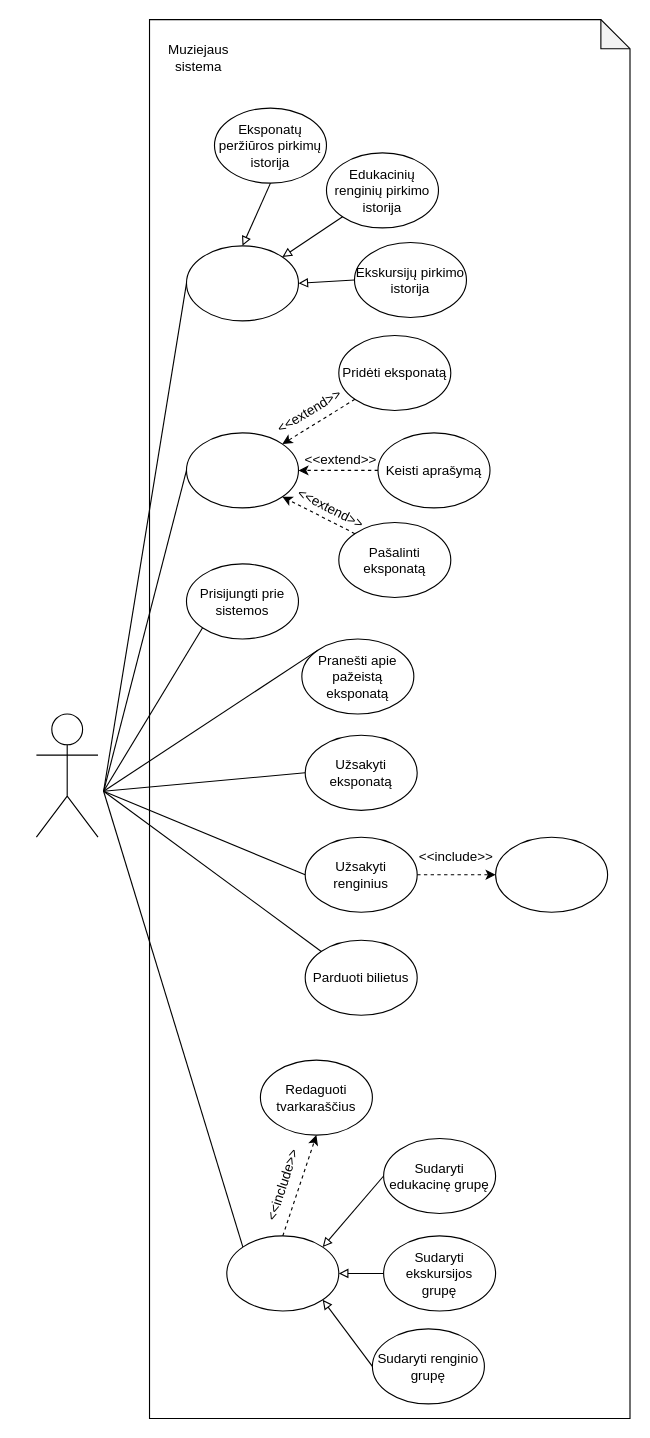
Image size: 650x1438. Some labels were removed from this diagram. Here are the shapes that lost their labels. From the top down, the centre of each, then its label:
point 241,283: Peržiūrėti pirkimų istoriją
point 241,470: Redaguoti eksponatų sąrašą
point 66,775: Administratorius
point 551,874: Parinkti datą ir laiką
point 282,1273: Sudarinėti grupes
